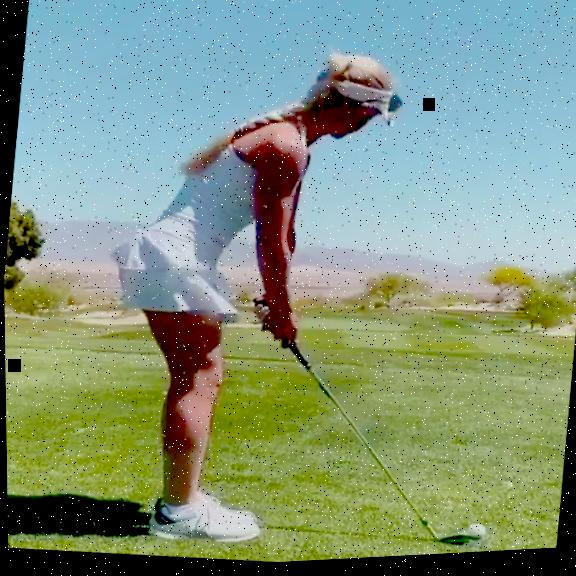ClubHead: (436, 534, 480, 551)
GolfBall: (465, 528, 485, 543)
